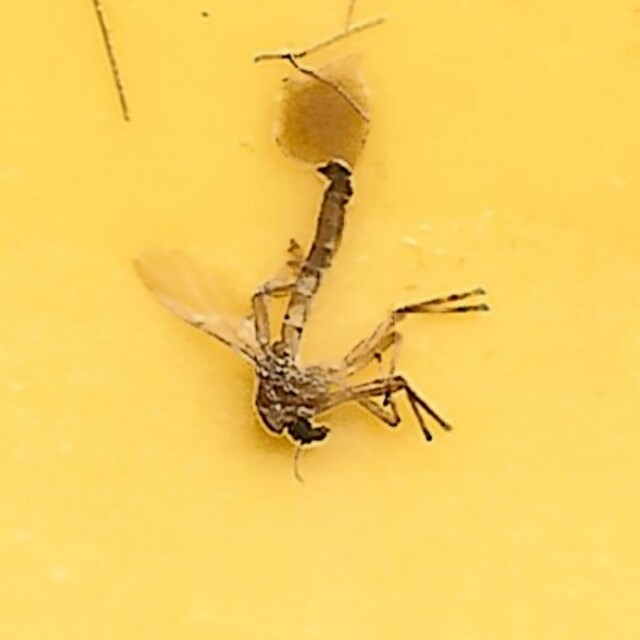Nematocera: (144, 162, 496, 478)
